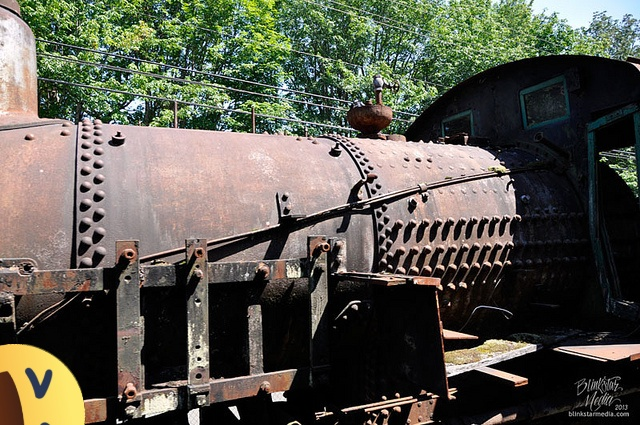haha: (0, 344, 85, 425)
